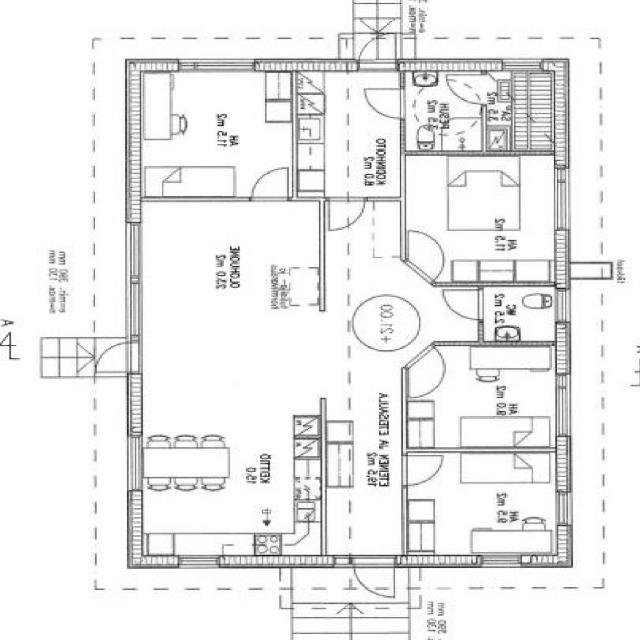door: (405, 344, 464, 391), (404, 239, 458, 283), (354, 555, 394, 600), (88, 342, 140, 373), (359, 28, 396, 71), (251, 166, 289, 201), (364, 89, 406, 119), (402, 456, 444, 486), (442, 290, 484, 320), (445, 74, 486, 104), (330, 197, 364, 230)
